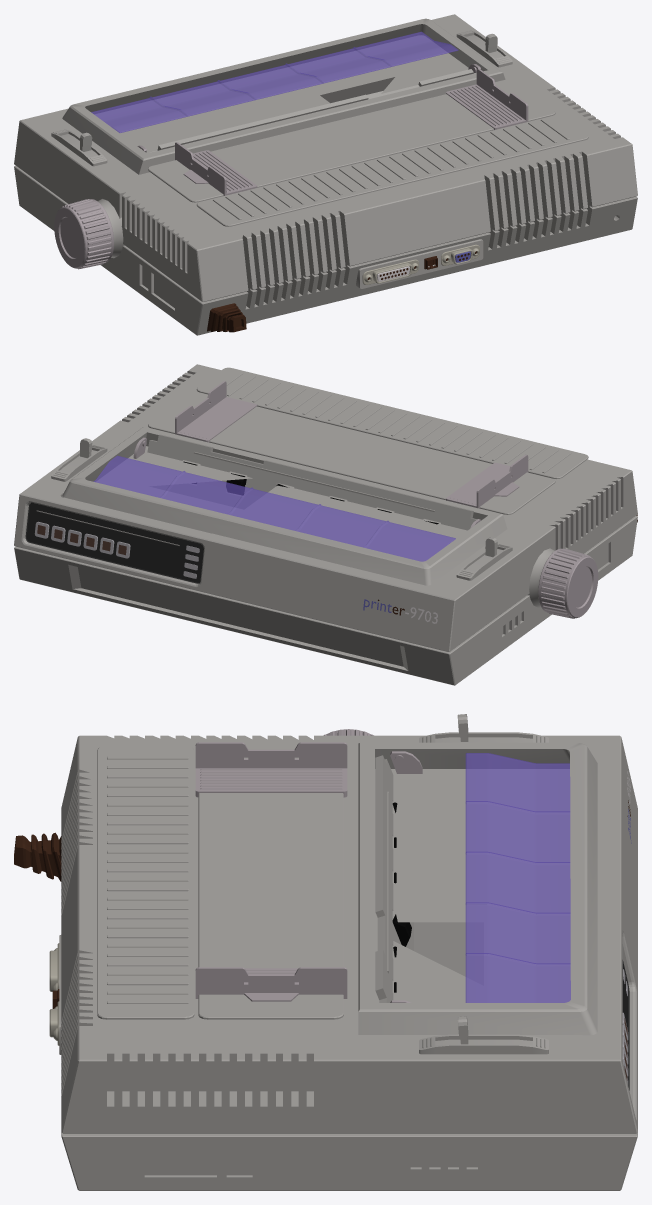
File: iompresora.fbx
3 views of the same model, one above another, from view 1: azimuth 30°, elevation 25°; view 2: azimuth 150°, elevation 25°; view 3: azimuth 270°, elevation 25° (orthographic). The views are drawn at different scales.
Visible parts, largest first — view 1: Куб.097; view 2: Куб.097; view 3: Куб.097.
Boxes of the visible parts, box(x1,y1,x2,y2) form: Куб.097: box(14, 14, 637, 335); Куб.097: box(14, 364, 637, 685); Куб.097: box(14, 714, 637, 1190).
Bounding box in the file's own units: 43.66 × 9.98 × 32.53.
